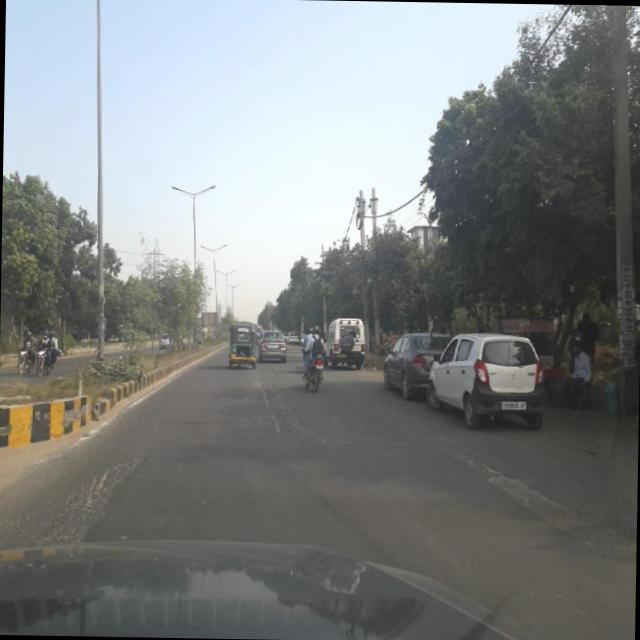crack: (22, 428, 160, 546)
pothole: (258, 376, 326, 460)
